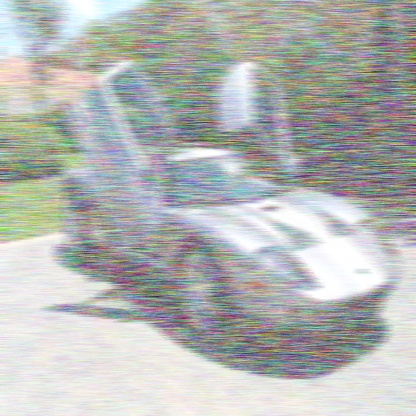Vehicle: (63, 54, 402, 341)
